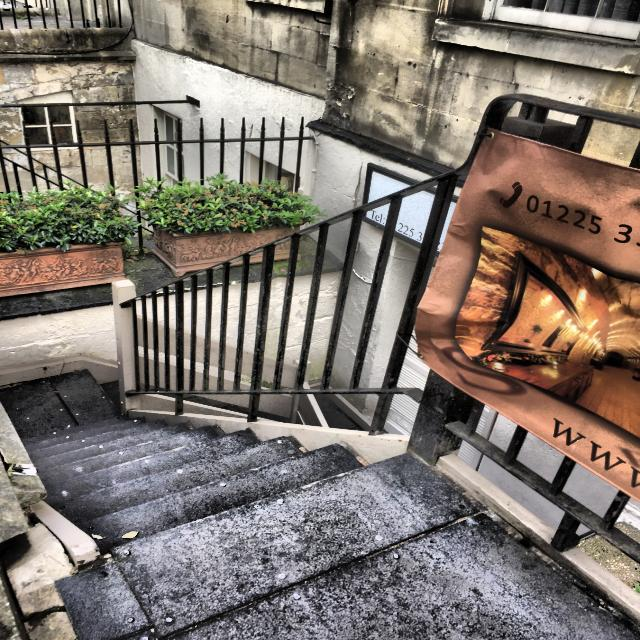escada: (15, 412, 408, 558)
